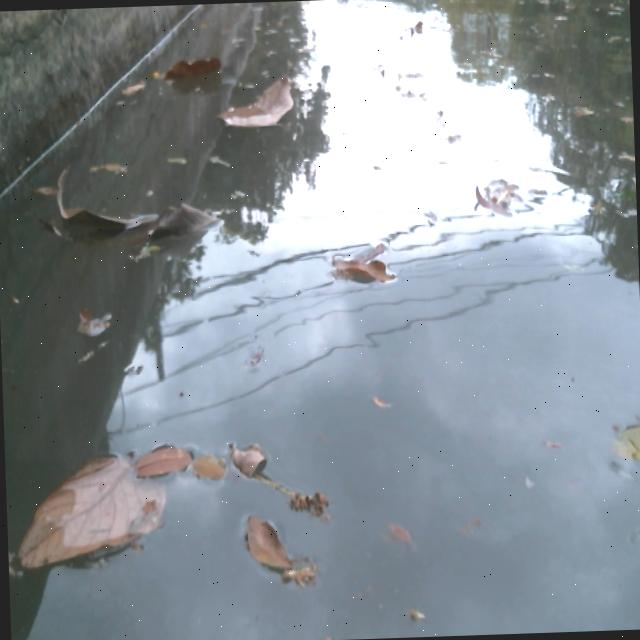Big-leaf: (5, 457, 162, 581), (40, 156, 160, 254), (216, 69, 303, 139), (151, 196, 222, 252), (136, 437, 194, 477), (156, 50, 222, 81)
Small-leaf: (235, 505, 308, 592), (324, 237, 401, 296), (351, 512, 425, 561), (228, 424, 288, 484), (593, 407, 640, 481), (263, 482, 329, 521), (470, 173, 520, 220), (74, 302, 116, 346), (191, 445, 227, 488), (405, 14, 419, 38)
